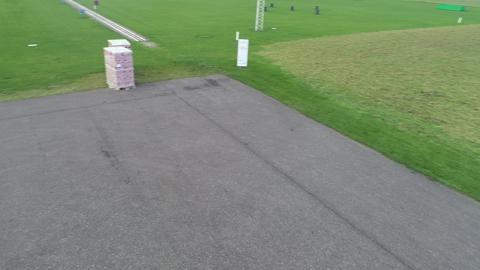RockwoolPallet: (109, 38, 130, 49)
